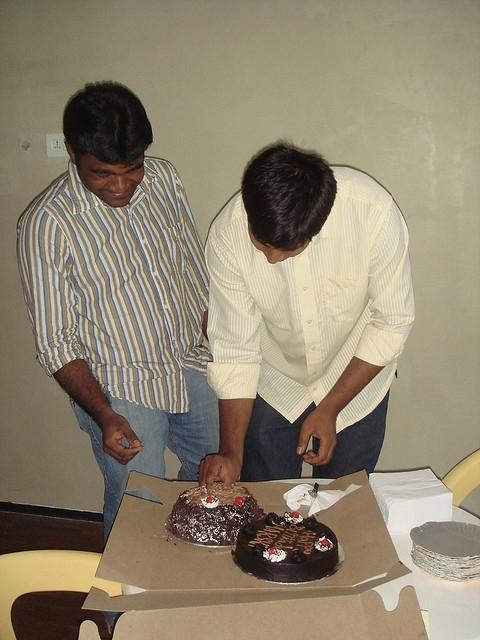cherry: (234, 496, 244, 505), (319, 538, 330, 546), (269, 548, 278, 556), (206, 496, 214, 504), (290, 512, 299, 518)
